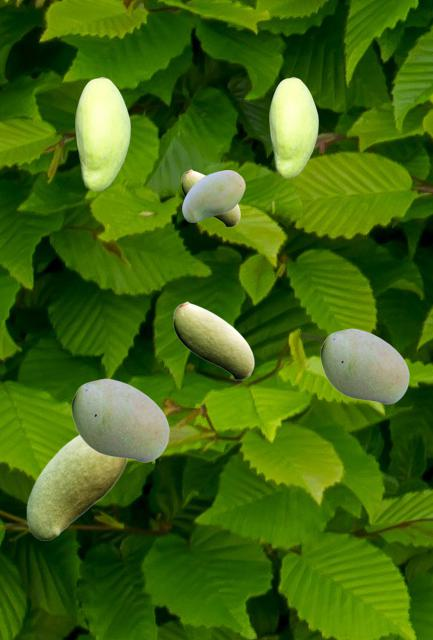green_mango: (26, 435, 127, 539), (71, 378, 168, 461), (320, 328, 408, 403), (173, 301, 253, 379), (75, 77, 129, 190), (269, 77, 317, 177), (181, 169, 239, 226), (182, 170, 244, 221)
